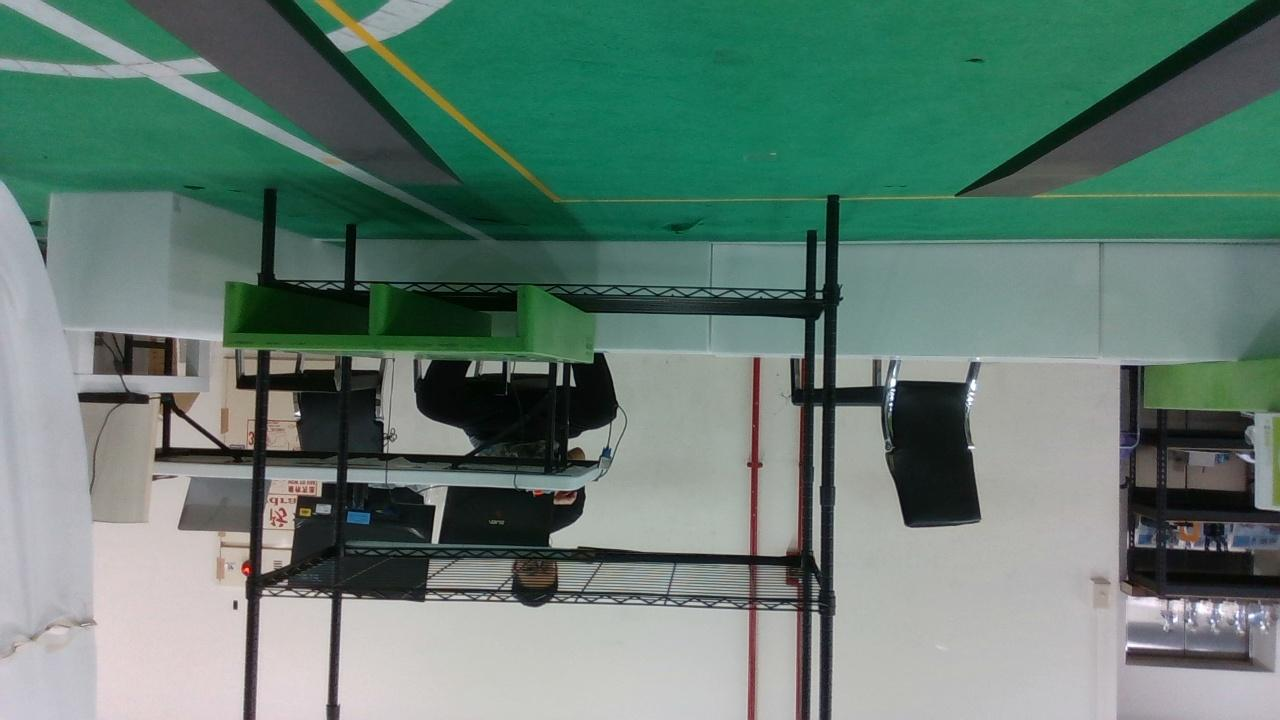Pallet: (221, 278, 532, 353)
